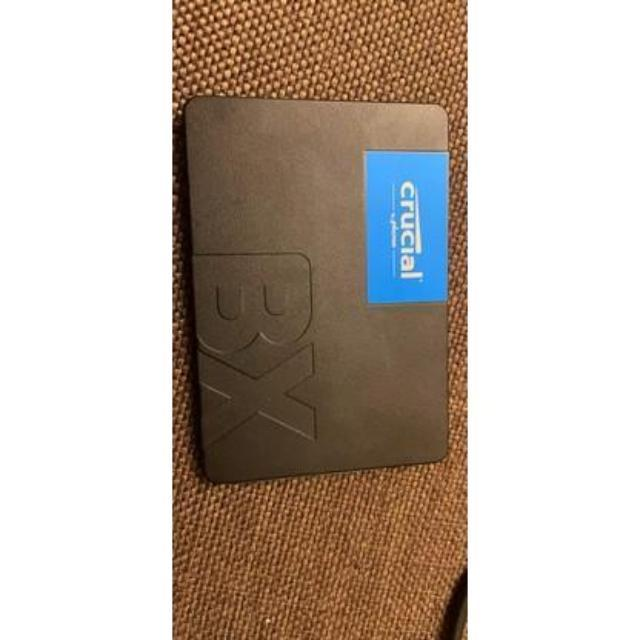DISK: (180, 94, 457, 480)
